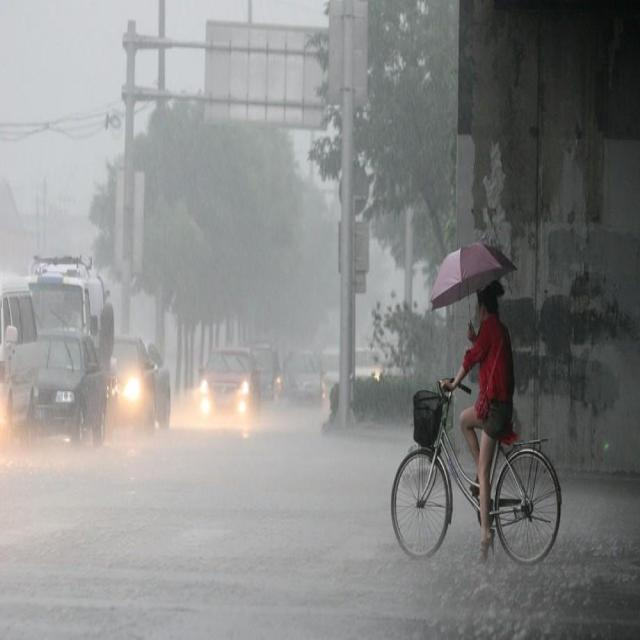car: (26, 328, 106, 445), (0, 272, 35, 440), (106, 334, 156, 430), (200, 345, 256, 418), (132, 340, 170, 426), (277, 348, 325, 404), (247, 341, 276, 398)
